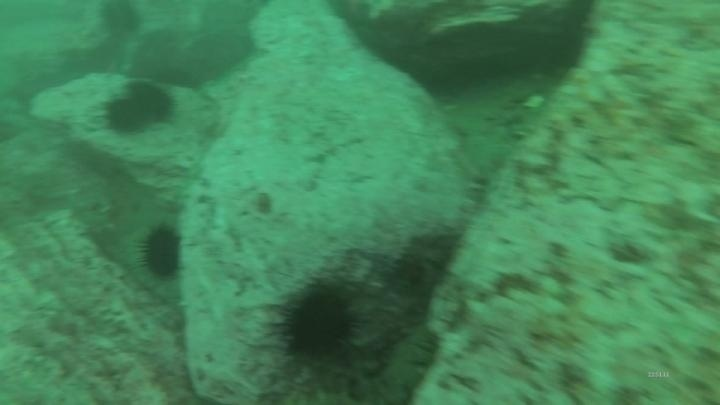echinus: (273, 282, 363, 367), (136, 222, 185, 283), (125, 79, 178, 127), (101, 93, 150, 137), (97, 1, 145, 40)
